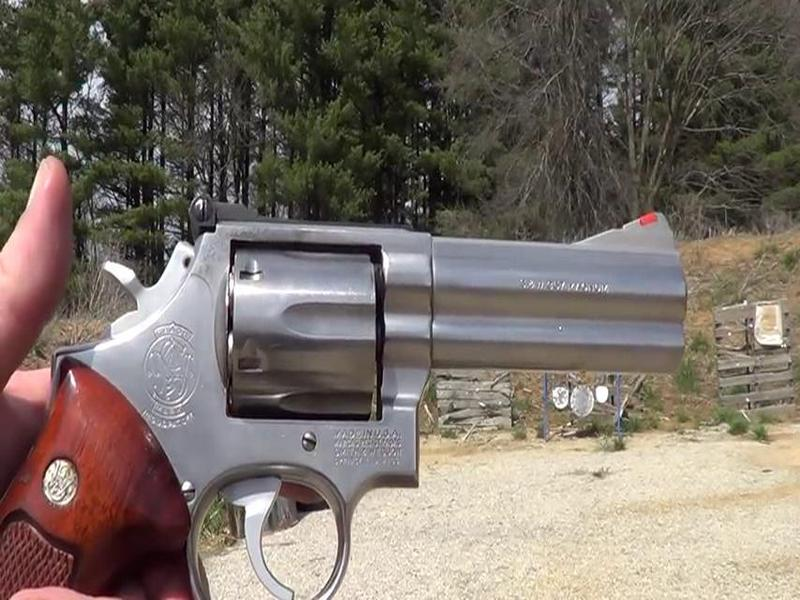Revolver: (52, 181, 696, 584)
